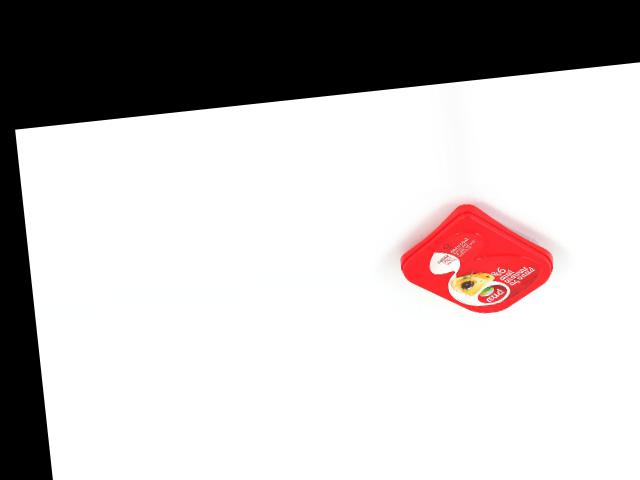cheese: (394, 194, 558, 322)
